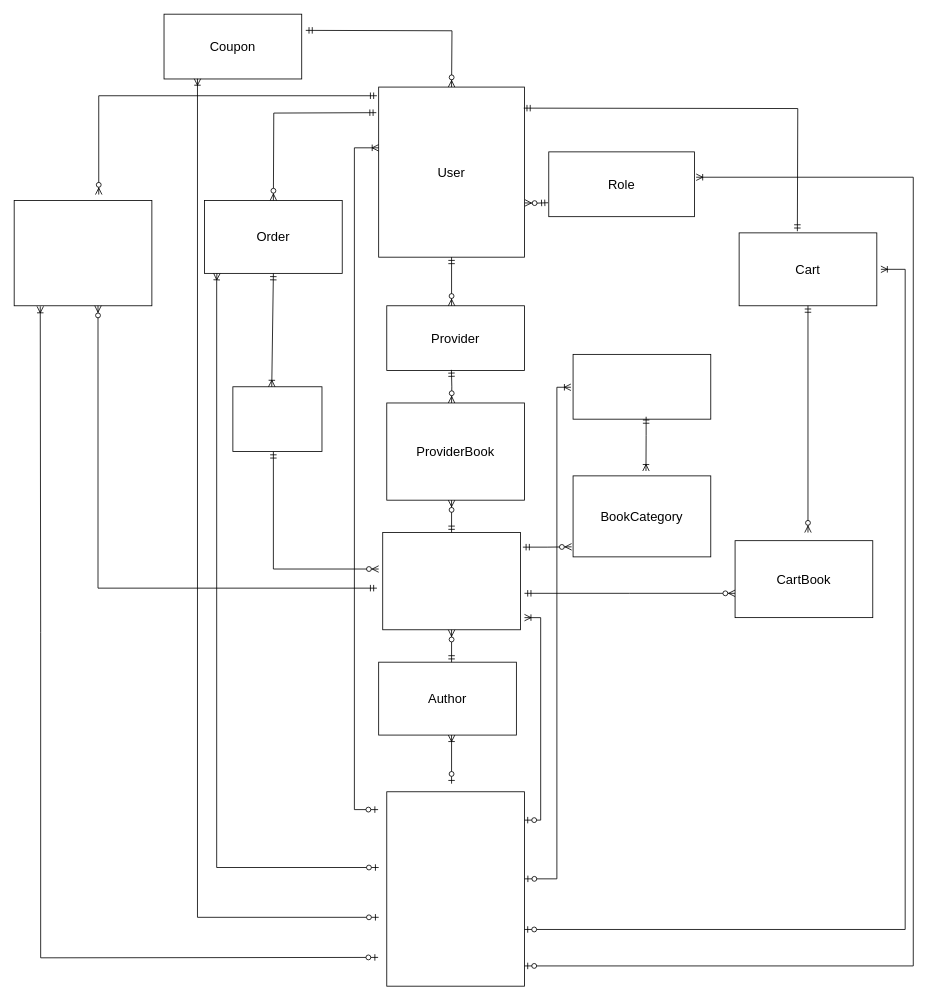
This 935x1000 diagram has some shape labels left out. The shapes that lost their labels are listed below. From the top down, each one's centre as x and y in pixels, then its label:
At (x=82, y=253): "Review".
At (x=641, y=386): "Category".
At (x=277, y=419): "OrderBook".
At (x=451, y=581): "Book".
At (x=455, y=888): "Audit_Log".
